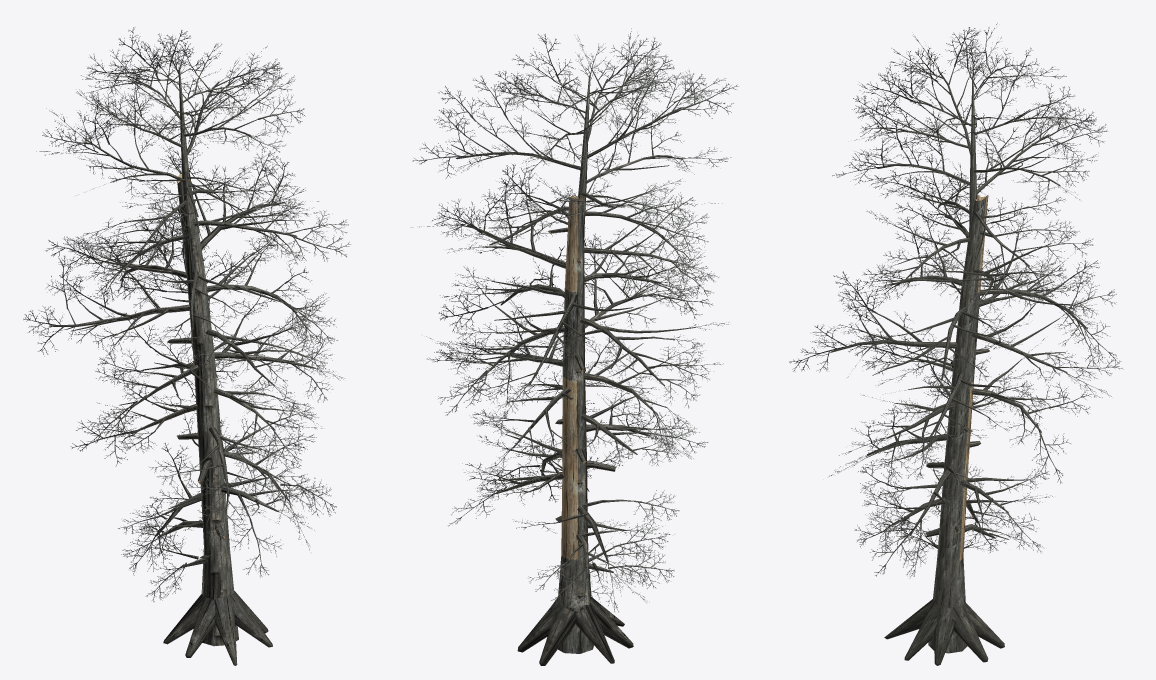
File: mm6_deco_tree28.glb
The picture shows the model from 3 angles, left to right: view 1: azimuth 30°, elevation 25°; view 2: azimuth 150°, elevation 25°; view 3: azimuth 270°, elevation 25°; orthographic projection. The views are drawn at different scales.
Parts seen in each view (by area): view 1: Tree; view 2: Tree; view 3: Tree.
Part boxes in pixels (x1,y1,x2,y2): Tree: [23, 27, 350, 665]; Tree: [411, 28, 738, 665]; Tree: [789, 23, 1123, 665].
Size of the model in its own units: 2.02 by 3.79 by 2.07.
3 materials, 3 textured.
